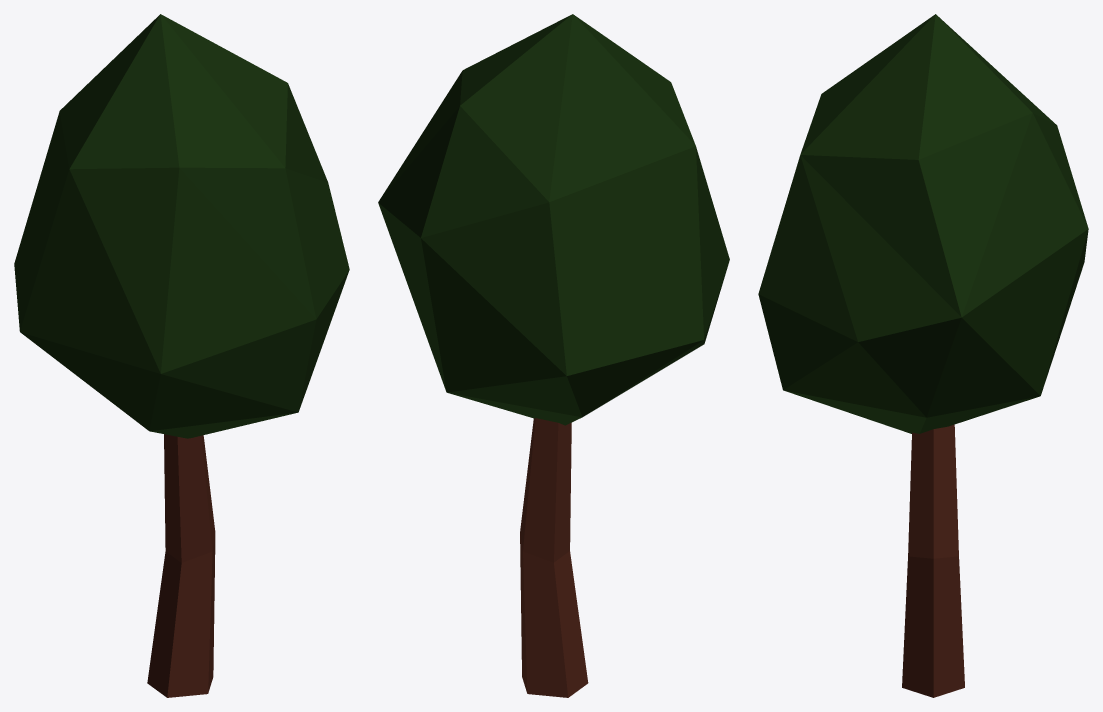
Rendered from goodTree_treeB.FBX.
3 renders of one model, left to right at view 1: azimuth 30°, elevation 25°; view 2: azimuth 150°, elevation 25°; view 3: azimuth 270°, elevation 25°, orthographic. The views are drawn at different scales.
Visible parts, largest first — view 1: goodTree_treeB; view 2: goodTree_treeB; view 3: goodTree_treeB.
Part boxes in pixels (x1=…): goodTree_treeB: x1=14, y1=14, x2=349, y2=697; goodTree_treeB: x1=378, y1=14, x2=729, y2=697; goodTree_treeB: x1=758, y1=14, x2=1088, y2=697.
Size of the model in its own units: 131 by 267 by 121.
